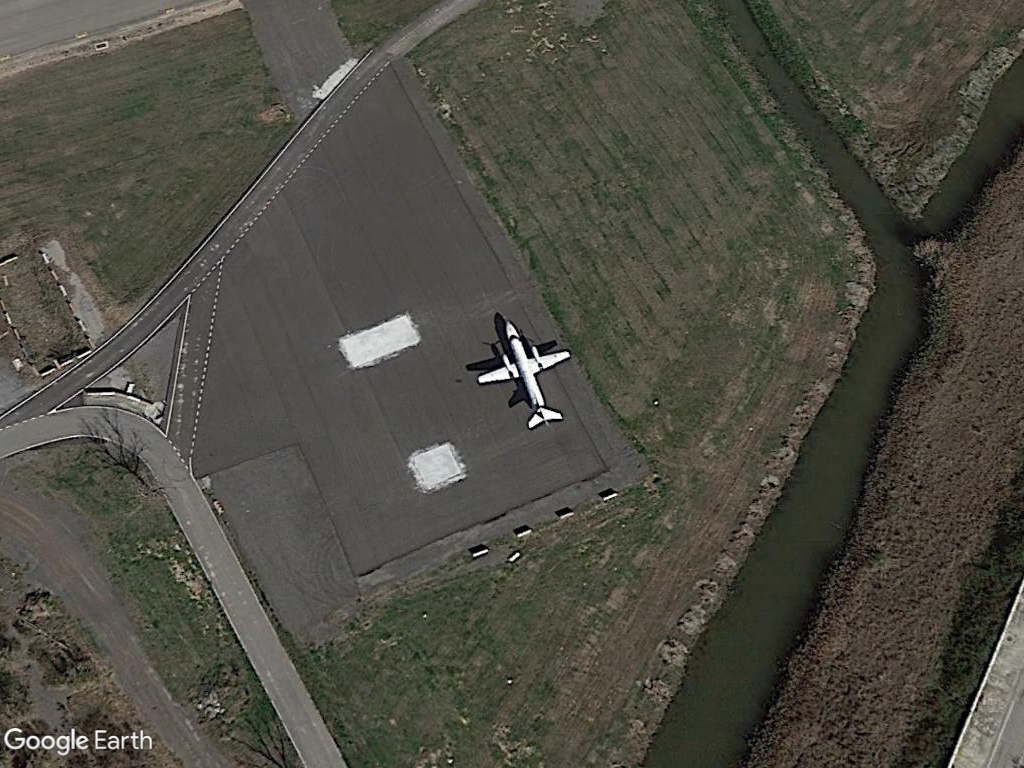trainer: (470, 318, 576, 431)
